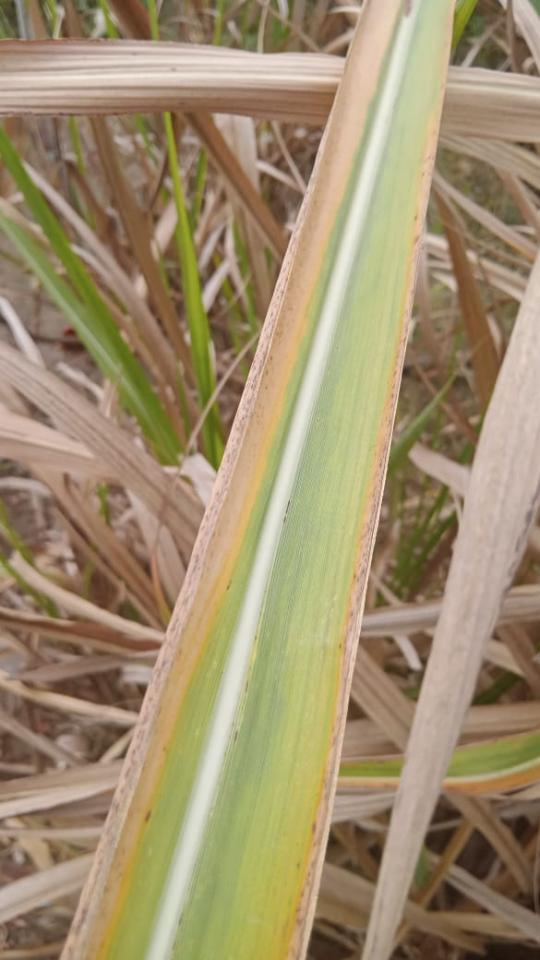RedRot: (403, 0, 413, 19)
Rust: (282, 498, 292, 524), (143, 811, 153, 823), (244, 679, 250, 693), (233, 730, 238, 744)
Yellow: (61, 1, 404, 959), (283, 0, 457, 959)
